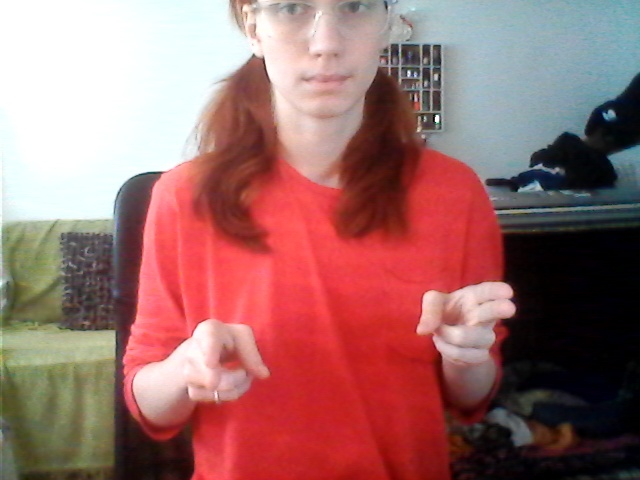ako: (178, 279, 522, 417)
